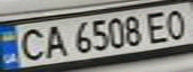0: (106, 16, 127, 50)
5: (90, 17, 112, 52)
6: (69, 18, 93, 54)
8: (121, 12, 148, 47)
A: (39, 22, 69, 58)
C: (12, 26, 48, 62)
E: (142, 8, 172, 44)
O: (160, 7, 190, 40)
